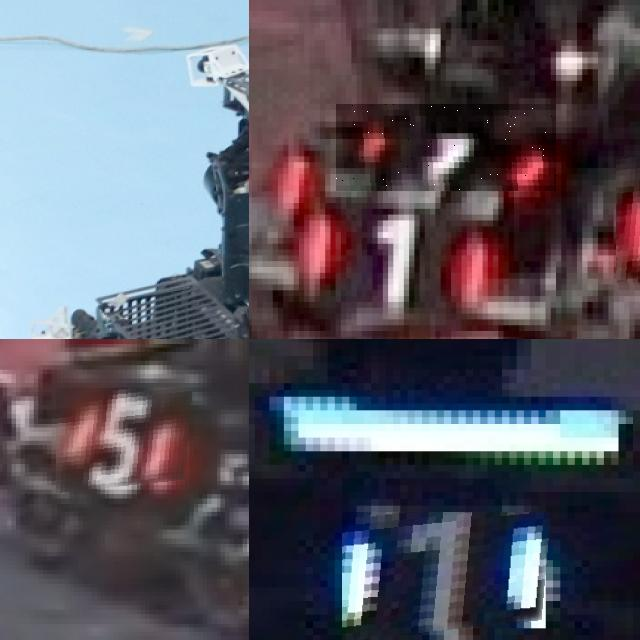B1: (342, 512, 553, 640)
R1: (278, 186, 509, 320), (336, 104, 556, 191)
R5: (56, 388, 194, 494)
